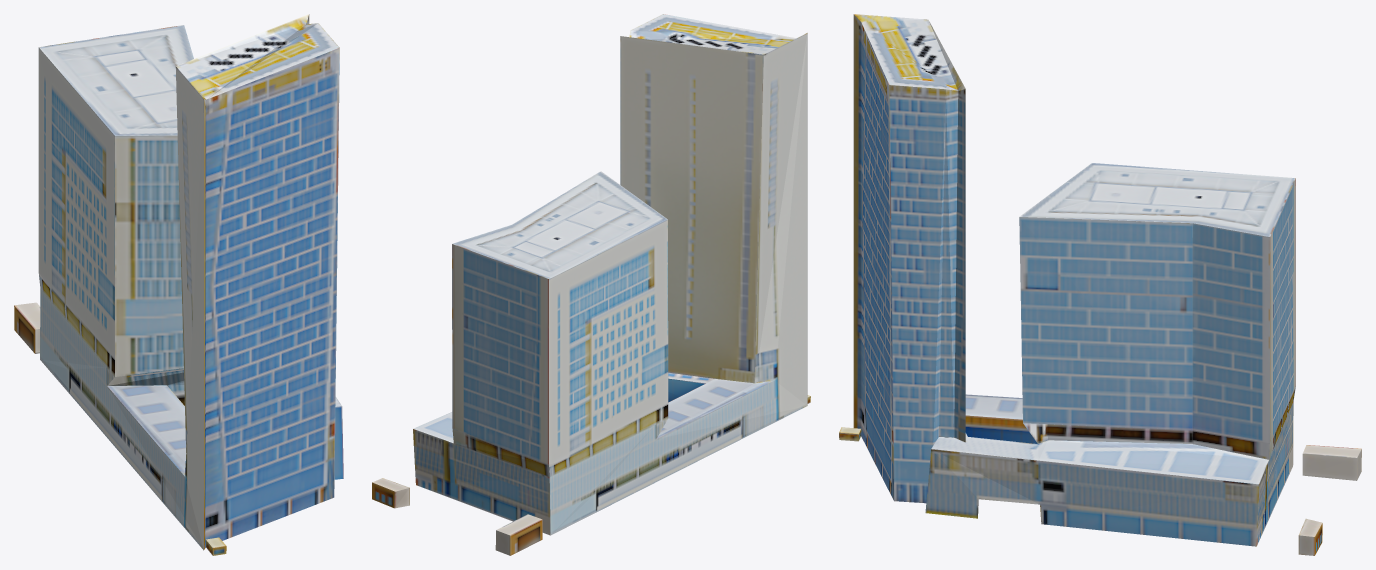
Rendered from 503_PLACED.glb.
The picture shows the model from 3 angles, left to right: view 1: azimuth 30°, elevation 25°; view 2: azimuth 150°, elevation 25°; view 3: azimuth 270°, elevation 25°; orthographic projection. The views are drawn at different scales.
Visible parts, largest first — view 1: 503.001; view 2: 503.001; view 3: 503.001.
Part boxes in pixels (<box>): 503.001: <box>14,14,343,555</box>; 503.001: <box>372,14,810,555</box>; 503.001: <box>839,14,1361,555</box>.
Bounding box in the file's own units: 67.58 × 105 × 119.
1 material, 1 textured.
